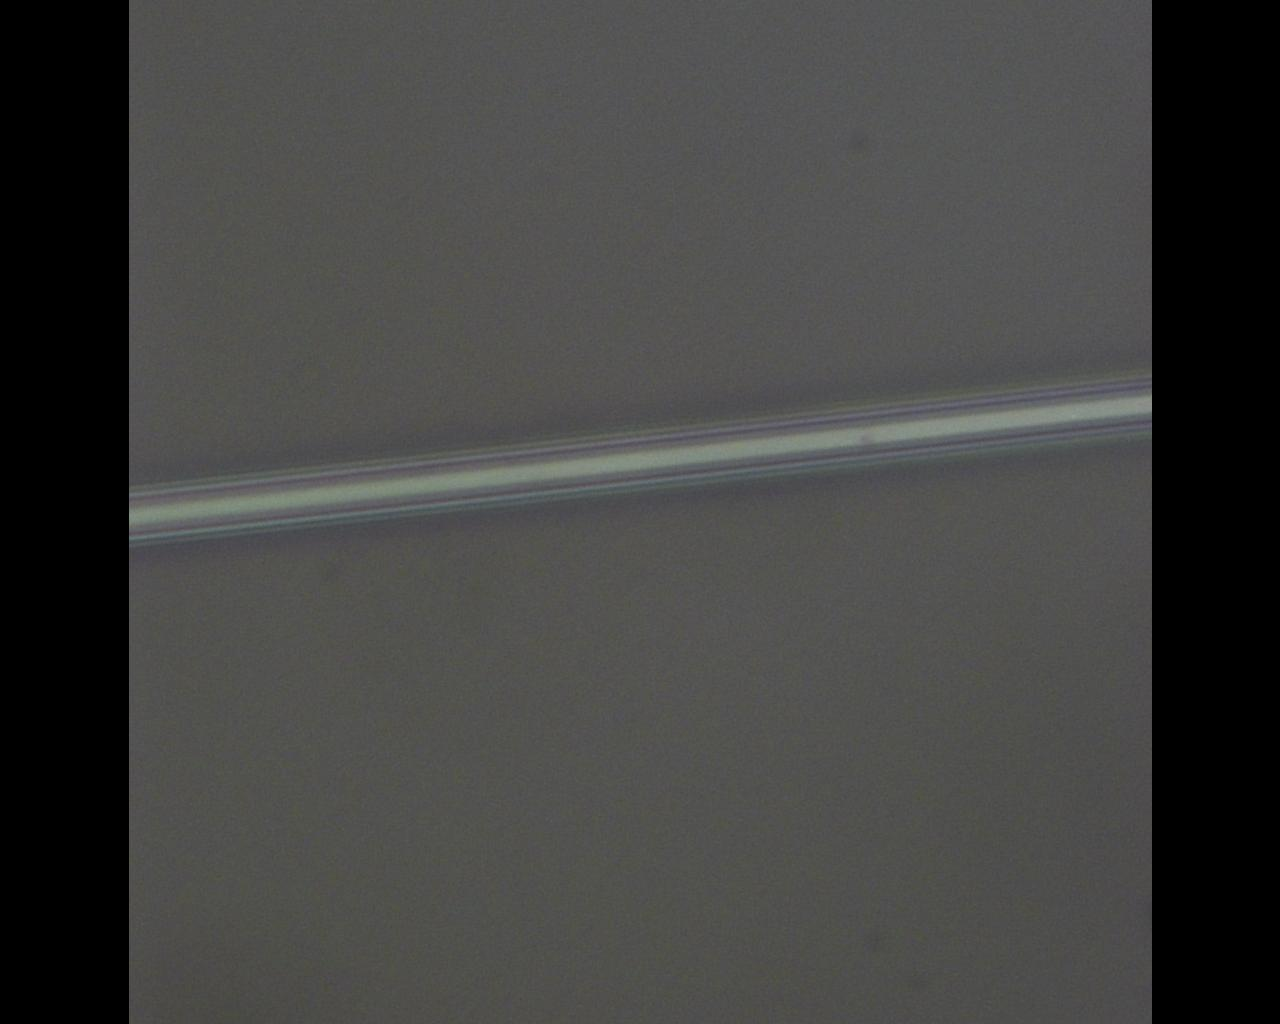fiber: (128, 372, 1152, 540)
